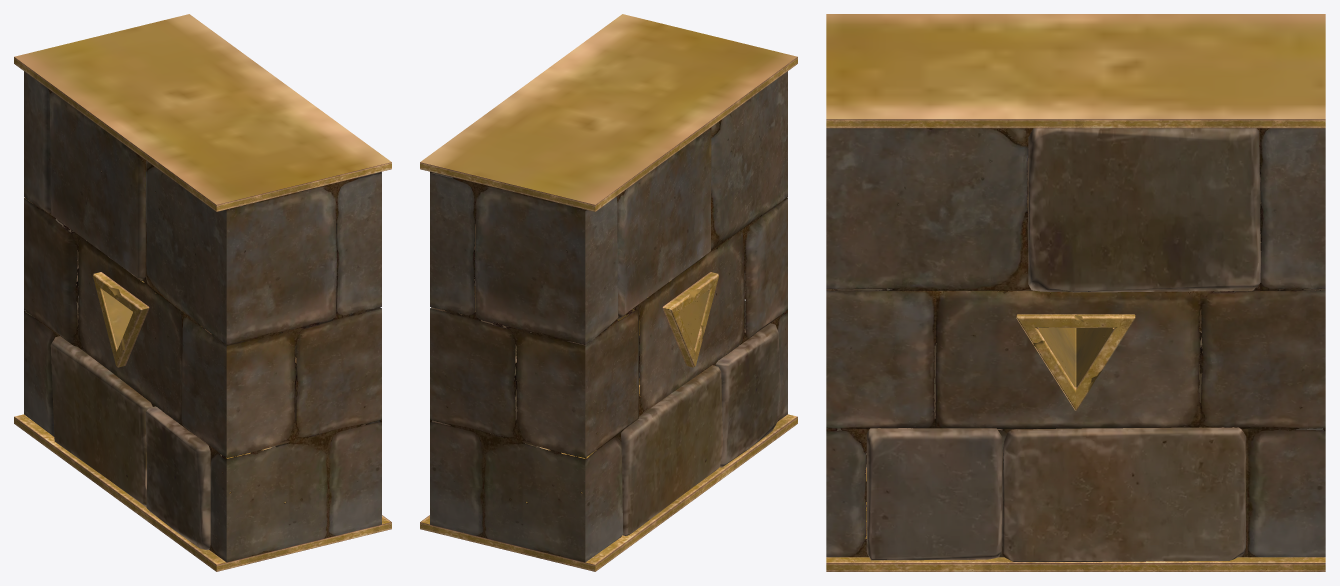
3 renders of one model, left to right at view 1: azimuth 30°, elevation 25°; view 2: azimuth 150°, elevation 25°; view 3: azimuth 270°, elevation 25°, orthographic. The views are drawn at different scales.
Visible parts, largest first — view 1: SM_DK_4m_Wall_02_LOD0; view 2: SM_DK_4m_Wall_02_LOD0; view 3: SM_DK_4m_Wall_02_LOD0.
Part boxes in pixels (box(x1,y1,x2,y2)): SM_DK_4m_Wall_02_LOD0: box(14, 14, 391, 571); SM_DK_4m_Wall_02_LOD0: box(420, 14, 797, 571); SM_DK_4m_Wall_02_LOD0: box(826, 14, 1325, 571).
Size of the model in its own units: 2.03 by 4 by 4.
Materials: 4 (4 with a texture image).
